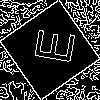E: (25, 25, 75, 66)
